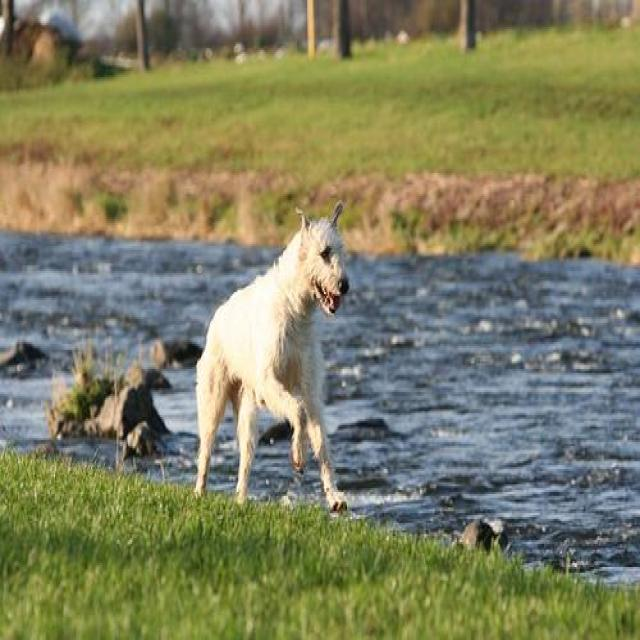irish_wolfhound: (193, 204, 352, 509)
